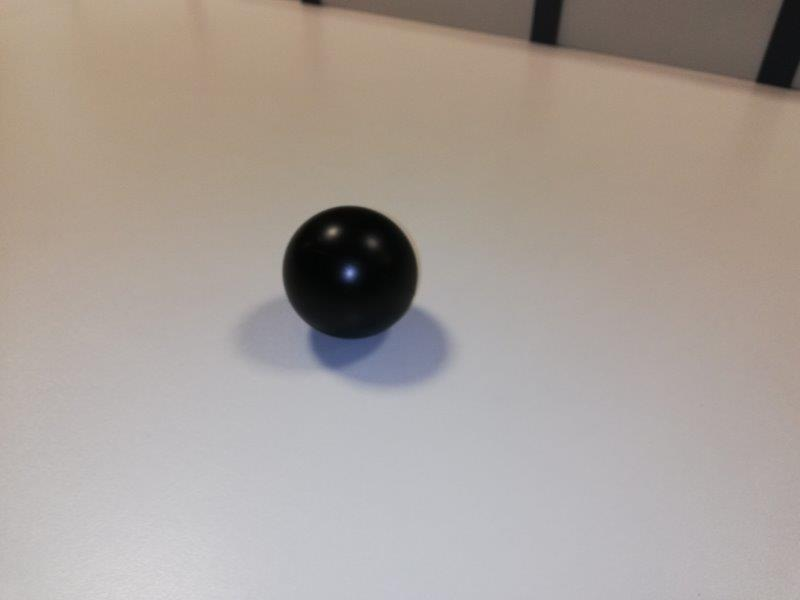nera: (280, 205, 420, 342)
